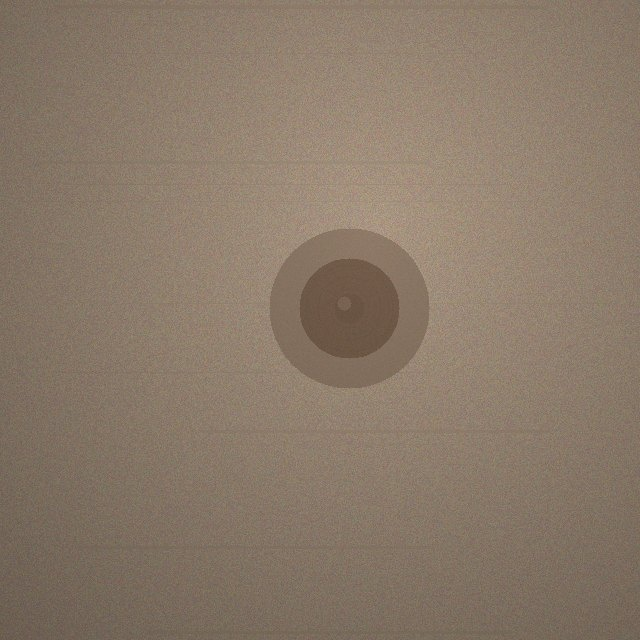good: (269, 228, 429, 388)
